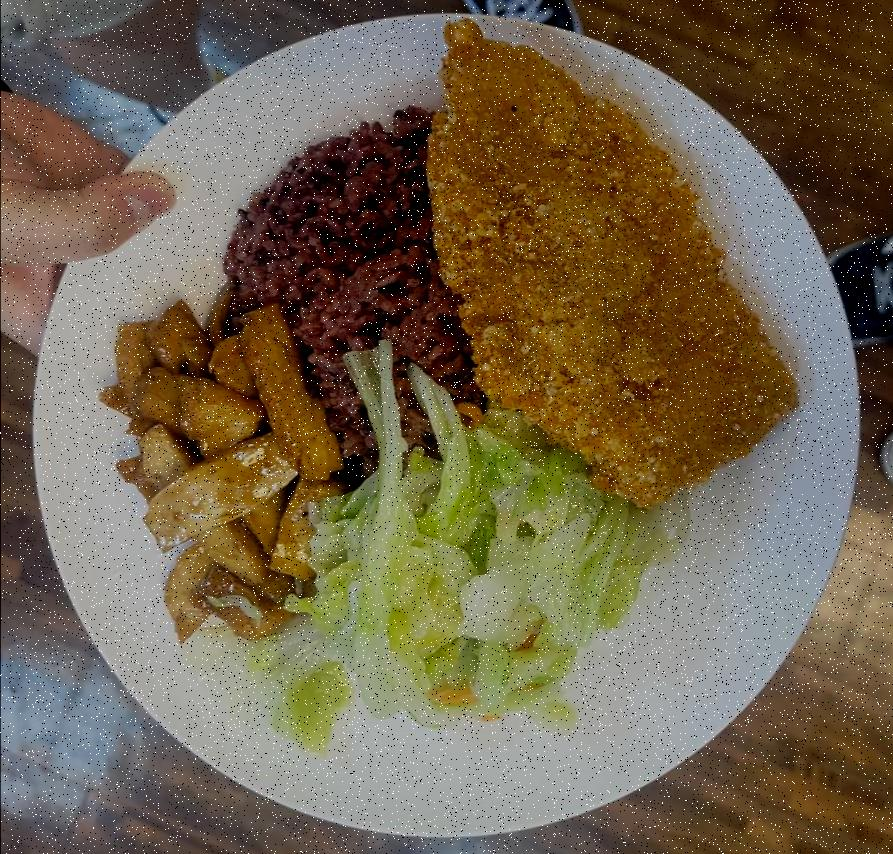big fried chicken leg: (19, 12, 864, 839)
braised fish: (215, 108, 508, 466)
braised fish fillet: (276, 415, 666, 745), (96, 299, 342, 636)
braised pork: (428, 13, 802, 512)
